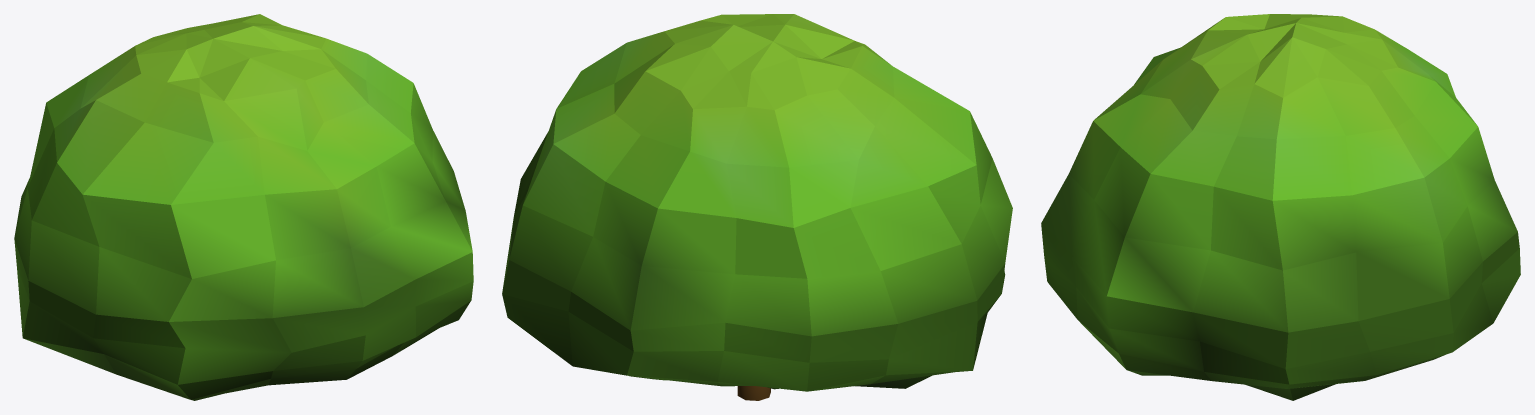
The model's file is JoaoPedroBaiao_882555.fbx_Arbusto.fbx.
3 views of the same model, side by side, from view 1: azimuth 30°, elevation 25°; view 2: azimuth 150°, elevation 25°; view 3: azimuth 270°, elevation 25° (orthographic). The views are drawn at different scales.
Parts seen in each view (by area): view 1: Arbusto; view 2: Arbusto; view 3: Arbusto.
Boxes of the visible parts, bbox=[...] form: Arbusto: bbox=[14, 14, 473, 400]; Arbusto: bbox=[502, 14, 1012, 400]; Arbusto: bbox=[1041, 14, 1520, 400].
Size of the model in its own units: 130 by 100 by 124.
